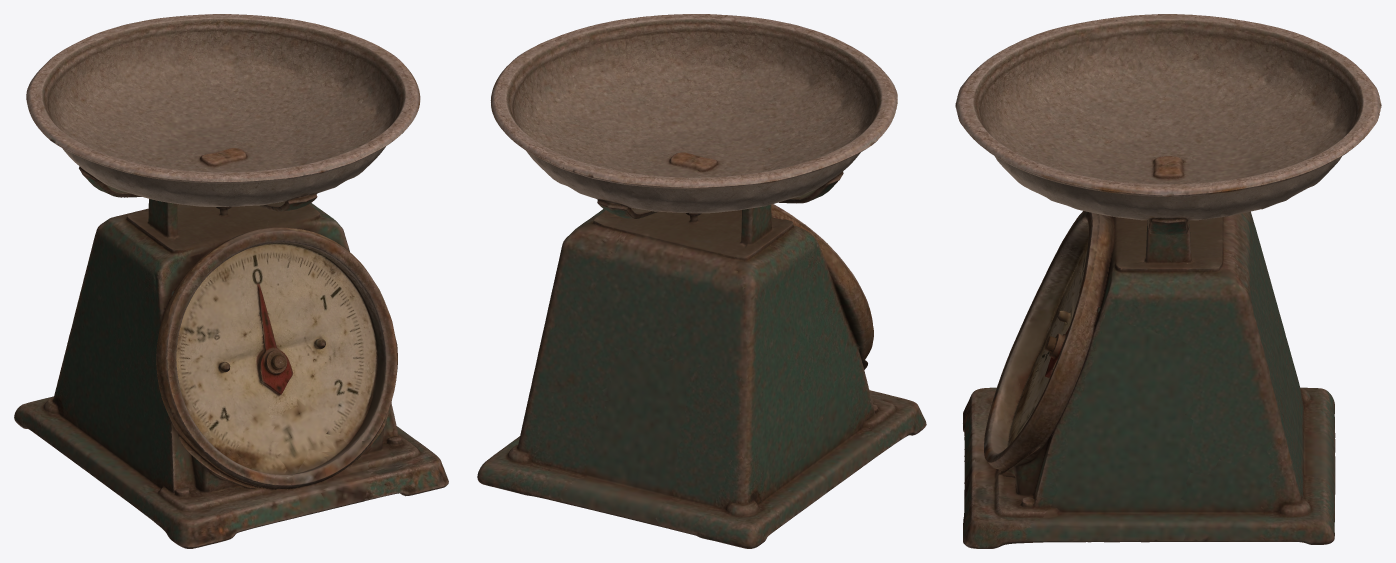
Rendered from Meshy_AI_Rusty_Kitchen_Scale_1009084959_texture.fbx.
The picture shows the model from 3 angles, left to right: view 1: azimuth 30°, elevation 25°; view 2: azimuth 150°, elevation 25°; view 3: azimuth 270°, elevation 25°; orthographic projection. The views are drawn at different scales.
Visible parts, largest first — view 1: Mesh_0; view 2: Mesh_0; view 3: Mesh_0.
Boxes of the visible parts, <box> form: Mesh_0: <box>14,14,448,548</box>; Mesh_0: <box>477,14,926,548</box>; Mesh_0: <box>955,14,1381,548</box>.
Size of the model in its own units: 190 by 186 by 190.
1 material, 1 textured.
